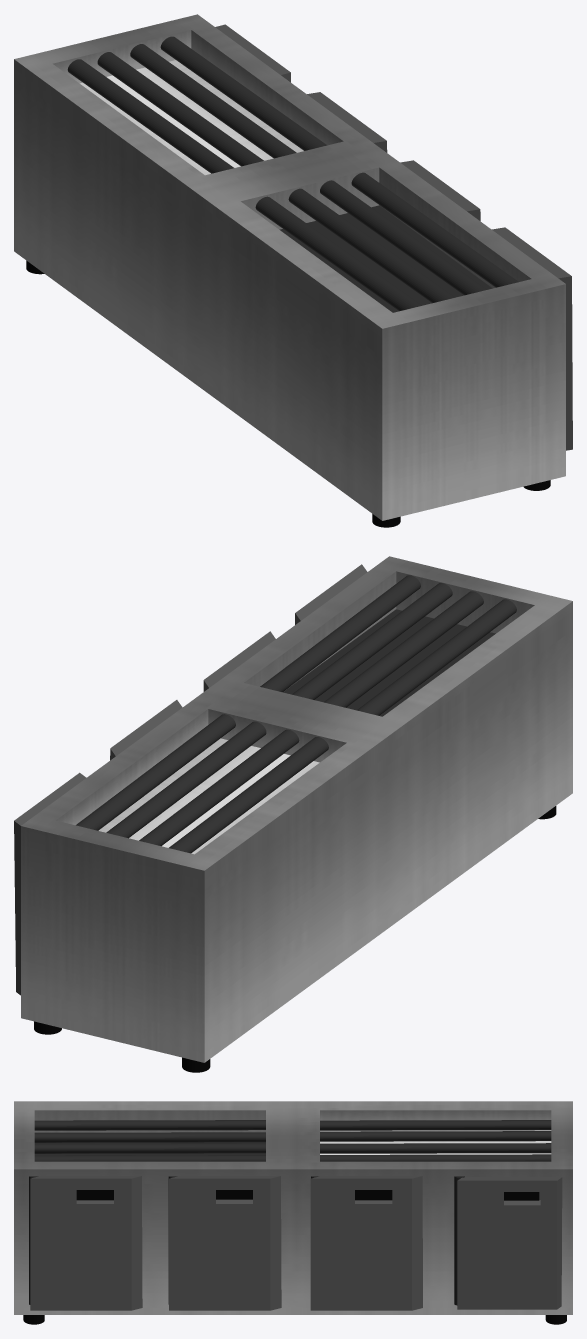
The model's file is werkbankspleten_original.obj.
3 views of the same model, one above another, from view 1: azimuth 30°, elevation 25°; view 2: azimuth 150°, elevation 25°; view 3: azimuth 270°, elevation 25° (orthographic). The views are drawn at different scales.
Visible parts, largest first — view 1: Cube.017_Cube.029, Cube.018_Cube.030, Cylinder.018_Cylinder.026, Cylinder.017_Cylinder.025, Cylinder.022_Cylinder.031, Cylinder.016_Cylinder.024, Cylinder.021_Cylinder.030, Cylinder.023_Cylinder.032, Cylinder.019_Cylinder.027, Cylinder.020_Cylinder.029, Cube.016_Cube.028, Cube.014_Cube.026 (+2 smaller); view 2: Cube.017_Cube.029, Cube.018_Cube.030, Cylinder.017_Cylinder.025, Cylinder.018_Cylinder.026, Cylinder.022_Cylinder.031, Cylinder.023_Cylinder.032, Cylinder.016_Cylinder.024, Cylinder.021_Cylinder.030, Cylinder.019_Cylinder.027, Cylinder.020_Cylinder.029, Cube.013_Cube.025, Cube.014_Cube.026 (+2 smaller); view 3: Cube.017_Cube.029, Cube.012_Cube.024, Cube.014_Cube.026, Cube.016_Cube.028, Cube.013_Cube.025, Cylinder.016_Cylinder.024, Cylinder.017_Cylinder.025, Cylinder.022_Cylinder.031, Cylinder.021_Cylinder.030, Cylinder.020_Cylinder.029, Cylinder.019_Cylinder.027, Cylinder.023_Cylinder.032 (+7 smaller).
Part boxes in pixels (box(x1,y1,x2,y2)): Cube.017_Cube.029: box(14, 14, 565, 520); Cube.018_Cube.030: box(279, 205, 492, 312); Cylinder.018_Cylinder.026: box(351, 172, 518, 287); Cylinder.017_Cylinder.025: box(320, 180, 486, 295); Cylinder.022_Cylinder.031: box(130, 44, 296, 158); Cylinder.016_Cylinder.024: box(288, 188, 454, 303); Cylinder.021_Cylinder.030: box(97, 52, 263, 166); Cylinder.023_Cylinder.032: box(160, 36, 327, 150); Cylinder.019_Cylinder.027: box(255, 196, 421, 311); Cylinder.020_Cylinder.029: box(67, 59, 233, 173); Cube.016_Cube.028: box(492, 227, 572, 450); Cube.014_Cube.026: box(400, 160, 480, 220); Cube.017_Cube.029: box(21, 556, 572, 1062); Cube.018_Cube.030: box(283, 609, 495, 716); Cylinder.017_Cylinder.025: box(292, 583, 452, 699); Cylinder.018_Cylinder.026: box(260, 575, 420, 692); Cylinder.022_Cylinder.031: box(106, 721, 266, 838); Cylinder.023_Cylinder.032: box(76, 714, 235, 830); Cylinder.016_Cylinder.024: box(324, 591, 483, 707); Cylinder.021_Cylinder.030: box(139, 729, 299, 846); Cylinder.019_Cylinder.027: box(356, 599, 516, 715); Cylinder.020_Cylinder.029: box(169, 737, 328, 853); Cube.013_Cube.025: box(14, 772, 86, 995); Cube.014_Cube.026: box(203, 631, 275, 691); Cube.017_Cube.029: box(14, 1101, 572, 1314); Cube.012_Cube.024: box(310, 1176, 422, 1310); Cube.014_Cube.026: box(169, 1176, 281, 1310); Cube.016_Cube.028: box(30, 1176, 142, 1310); Cube.013_Cube.025: box(457, 1177, 562, 1309); Cylinder.016_Cylinder.024: box(34, 1132, 265, 1142); Cylinder.017_Cylinder.025: box(34, 1143, 265, 1153); Cylinder.022_Cylinder.031: box(320, 1143, 551, 1153); Cylinder.021_Cylinder.030: box(320, 1131, 551, 1141); Cylinder.020_Cylinder.029: box(320, 1120, 551, 1130); Cylinder.019_Cylinder.027: box(34, 1120, 265, 1130); Cylinder.023_Cylinder.032: box(320, 1154, 551, 1161).
Size of the model in its own units: 3.48 by 3.42 by 11.04.
